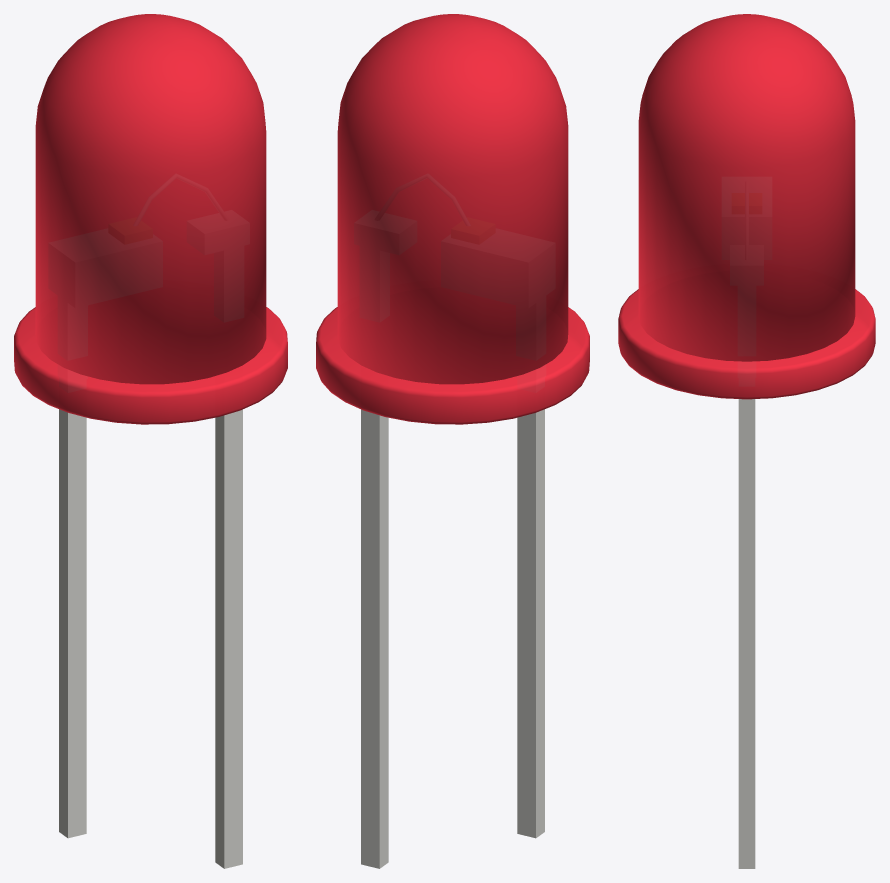
Rendered from led.glb.
3 renders of one model, left to right at view 1: azimuth 30°, elevation 25°; view 2: azimuth 150°, elevation 25°; view 3: azimuth 270°, elevation 25°, orthographic. The views are drawn at different scales.
Parts seen in each view (by area): view 1: LEDVisual_Dome, LEDVisual_Metal, LEDVisual_Rim; view 2: LEDVisual_Dome, LEDVisual_Metal, LEDVisual_Rim; view 3: LEDVisual_Dome, LEDVisual_Rim, LEDVisual_Metal.
Part boxes in pixels (x1,y1,x2,y2): LEDVisual_Dome: (35, 14, 266, 384); LEDVisual_Metal: (59, 409, 242, 868); LEDVisual_Rim: (14, 307, 287, 424); LEDVisual_Dome: (337, 14, 568, 384); LEDVisual_Metal: (361, 409, 544, 868); LEDVisual_Rim: (316, 307, 589, 424); LEDVisual_Dome: (638, 14, 855, 361); LEDVisual_Rim: (618, 289, 875, 399); LEDVisual_Metal: (738, 399, 755, 868).
Size of what is drawn, in the model's own units: 1.52 by 5.24 by 1.52.
